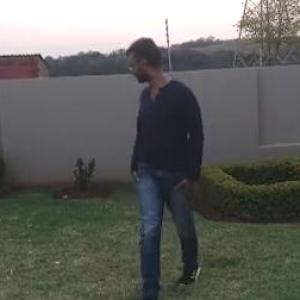follow: (124, 30, 206, 274)
